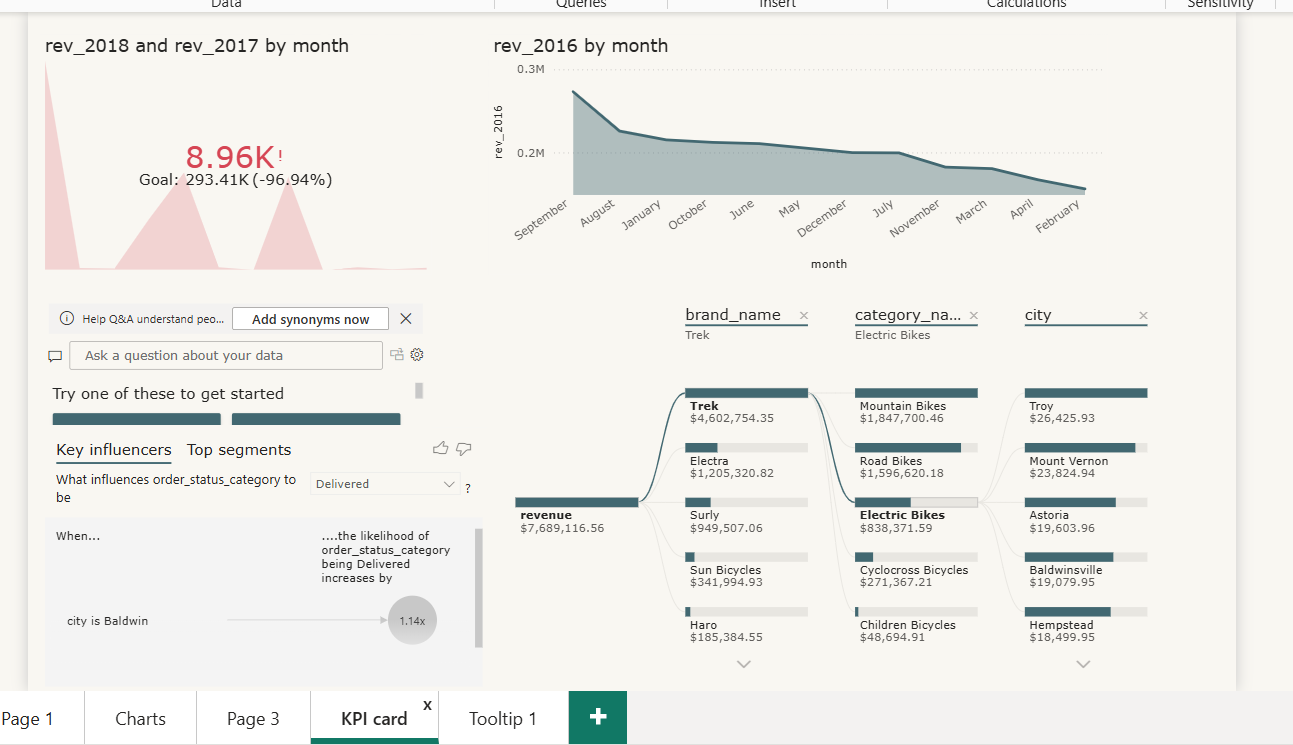

The page's visual inventory and layout, read from the dashboard file:
{"tool":"powerbi","page":{"name":"KPI card","canvas":[1280,720],"ordinal":3},"visuals":[{"type":"kpi","fields":{"TrendLine":["Orders.month"],"Goal":["Table.rev_2017"],"Indicator":["Table.rev_2018"]},"box":[12.7,23.9,415.1,254.5],"z":0},{"type":"areaChart","fields":{"Category":["Orders.month"],"Y":["Table.rev_2016"]},"box":[488.3,23.9,656.9,254.5],"z":1000},{"type":"decompositionTreeVisual","fields":{"Analyze":["Table.revenue"],"ExplainBy":["Brands.brand_name","Categories.category_name","Customers.city"]},"box":[486.7,295.9,793.7,424.7],"z":2000},{"type":"keyDriversVisual","fields":{"ExplainBy":["Sum(Staffs.staff_id)","Stores.city"],"Target":["Orders.order_status_category"]},"box":[12.7,440.6,474,279.9],"z":3000},{"type":"qnaVisual","box":[13,296,415,150],"z":4000}]}

Visuals, with their boxes on the page's 1280x720 design canvas (x1, y1, x2, y2). These are canvas units, not pixel positions in the 1293x745 screenshot, which may show the page scaled, cropped or inside an application window:
kpi - Orders.month x Table.rev_2017: detection(13, 24, 428, 278)
areaChart - Orders.month x Table.rev_2016: detection(488, 24, 1145, 278)
decompositionTreeVisual - Table.revenue x Brands.brand_name: detection(487, 296, 1280, 721)
keyDriversVisual - Sum(Staffs.staff_id) x Stores.city: detection(13, 441, 487, 720)
qnaVisual: detection(13, 296, 428, 446)
